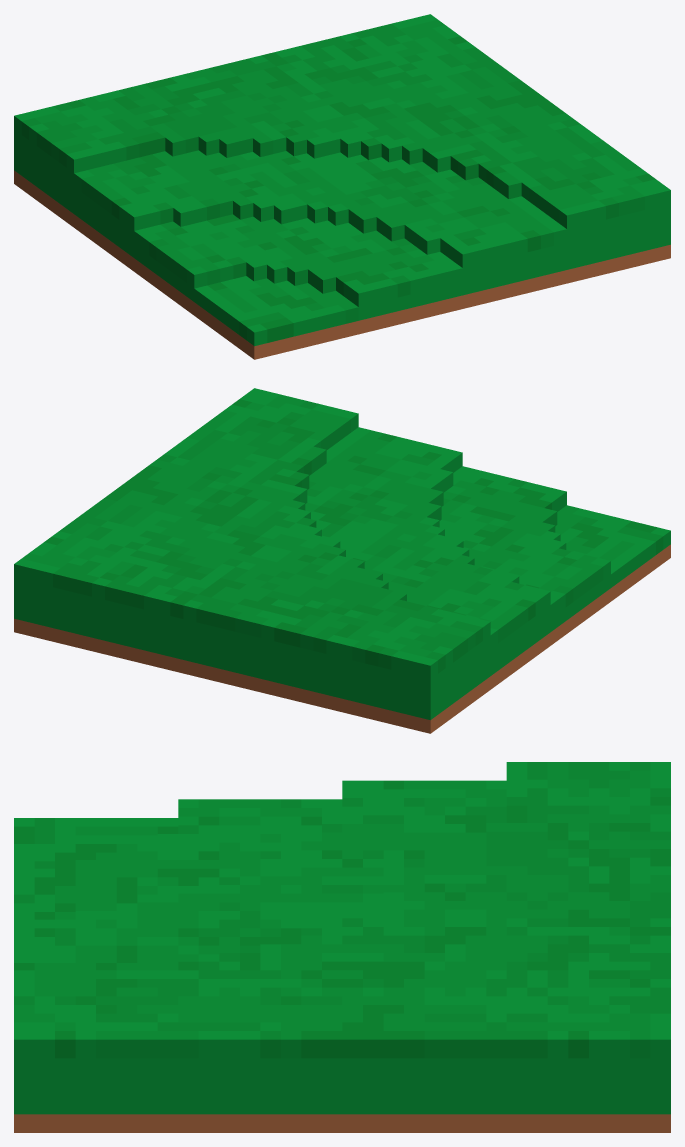
The model's file is forest-uneven-edge-inner-3.gltf.
3 views of the same model, one above another, from view 1: azimuth 30°, elevation 25°; view 2: azimuth 150°, elevation 25°; view 3: azimuth 270°, elevation 25° (orthographic). The views are drawn at different scales.
Visible parts, largest first — view 1: forest-uneven-edge-inner-3; view 2: forest-uneven-edge-inner-3; view 3: forest-uneven-edge-inner-3.
Part boxes in pixels (x1,y1,x2,y2): forest-uneven-edge-inner-3: [14, 14, 670, 359]; forest-uneven-edge-inner-3: [14, 388, 670, 733]; forest-uneven-edge-inner-3: [14, 762, 670, 1132].
Size of the model in its own units: 3.2 by 0.5 by 3.2.
1 material, 1 textured.
